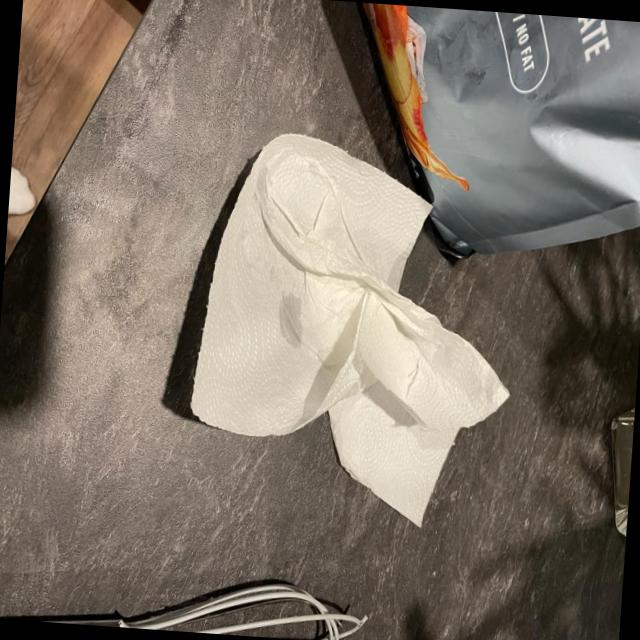organic waste: (168, 126, 535, 543)
